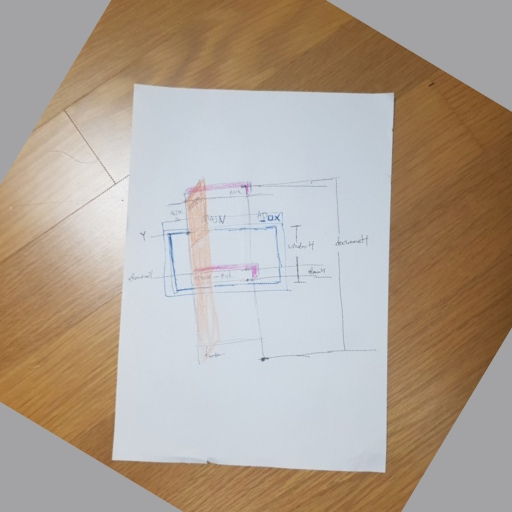Paper_2: (101, 73, 407, 485)
